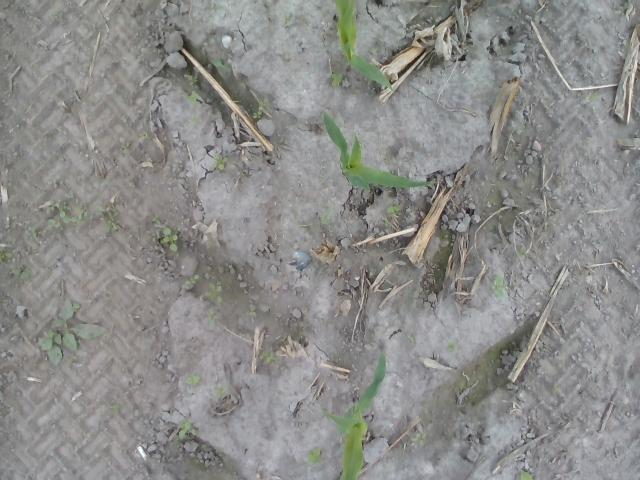Maize: (322, 110, 434, 193), (322, 350, 387, 480), (334, 0, 396, 93)
Weeds: (34, 303, 112, 366), (47, 190, 95, 232), (150, 214, 178, 252), (94, 200, 122, 234), (246, 94, 272, 120), (174, 414, 192, 448), (23, 221, 48, 243), (202, 281, 224, 305), (206, 58, 232, 76), (490, 275, 508, 296), (214, 154, 232, 172), (16, 264, 34, 282), (0, 246, 17, 265), (257, 352, 281, 365), (182, 273, 200, 290), (458, 378, 479, 392), (330, 70, 345, 89), (410, 432, 425, 450), (307, 447, 321, 465), (110, 402, 128, 416), (184, 373, 203, 386), (184, 90, 200, 105), (384, 201, 400, 215), (586, 92, 601, 106), (188, 74, 200, 90), (516, 470, 535, 480), (213, 383, 224, 400), (320, 207, 330, 224), (118, 143, 128, 160), (514, 244, 528, 256), (617, 0, 628, 15), (207, 309, 216, 326), (246, 306, 258, 317), (192, 114, 202, 126), (368, 46, 380, 56), (448, 339, 457, 352), (552, 383, 561, 395), (407, 336, 416, 346), (282, 15, 288, 24), (384, 220, 389, 228)
